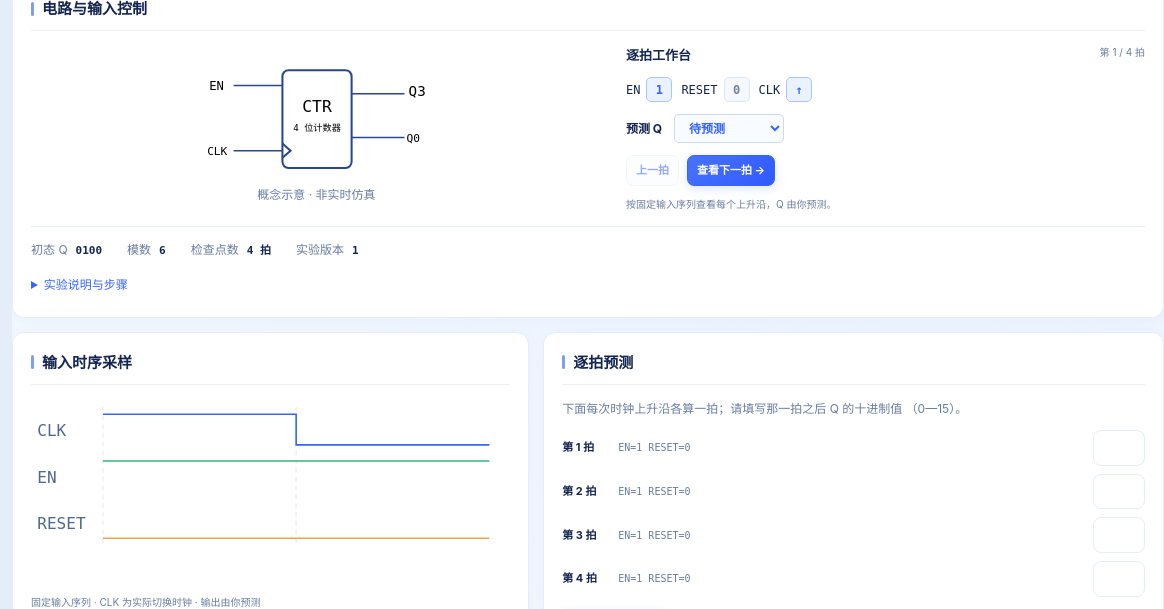
Test: 学生逐拍预测页 › 未填完时不提交并给出提示
Type "5" into the number field named "第 1 拍". click: (1119,448)
box: [1093,430,1145,466]
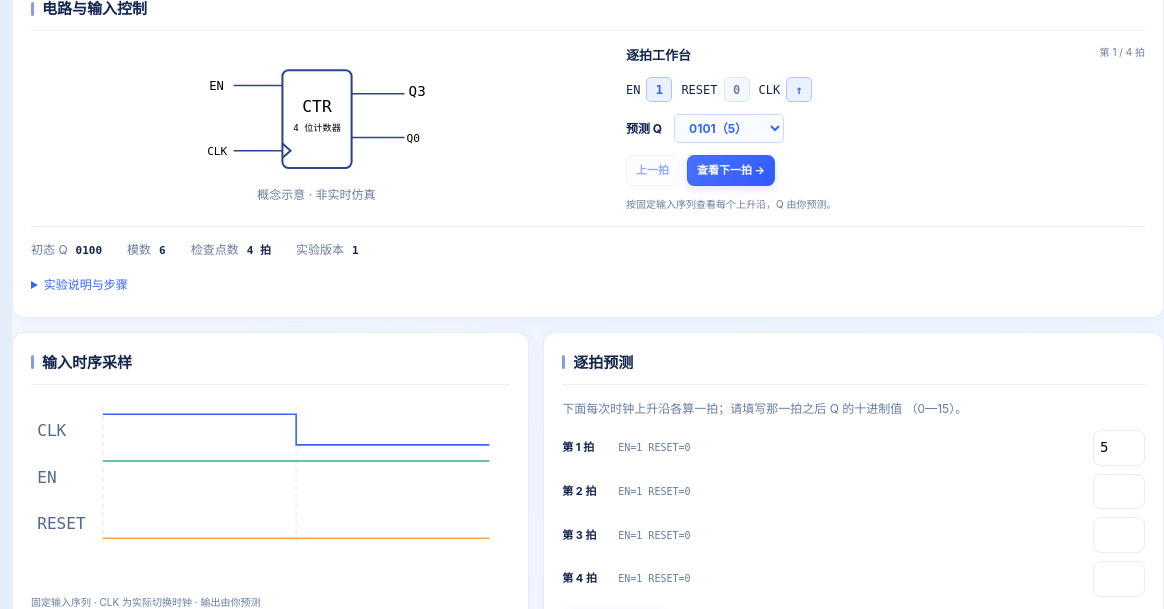
Type "0" into the number field named "第 2 拍". click: (1119,492)
box: [1093,474,1145,510]
(page scrolled)
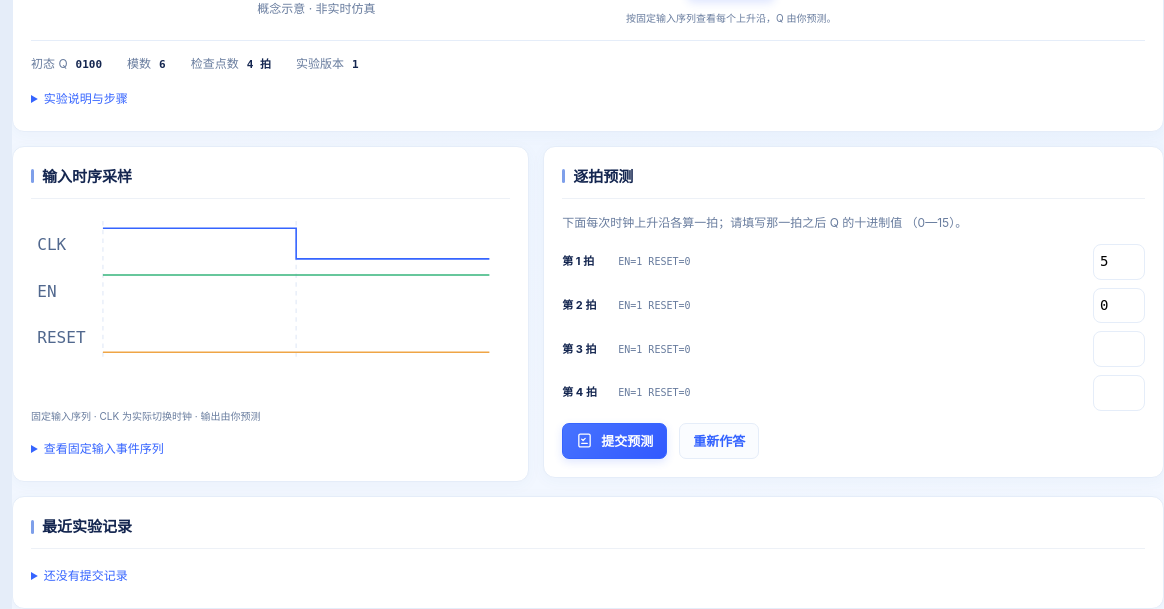
Click the button "提交预测". click: (615,441)
box: [562,423,667,459]
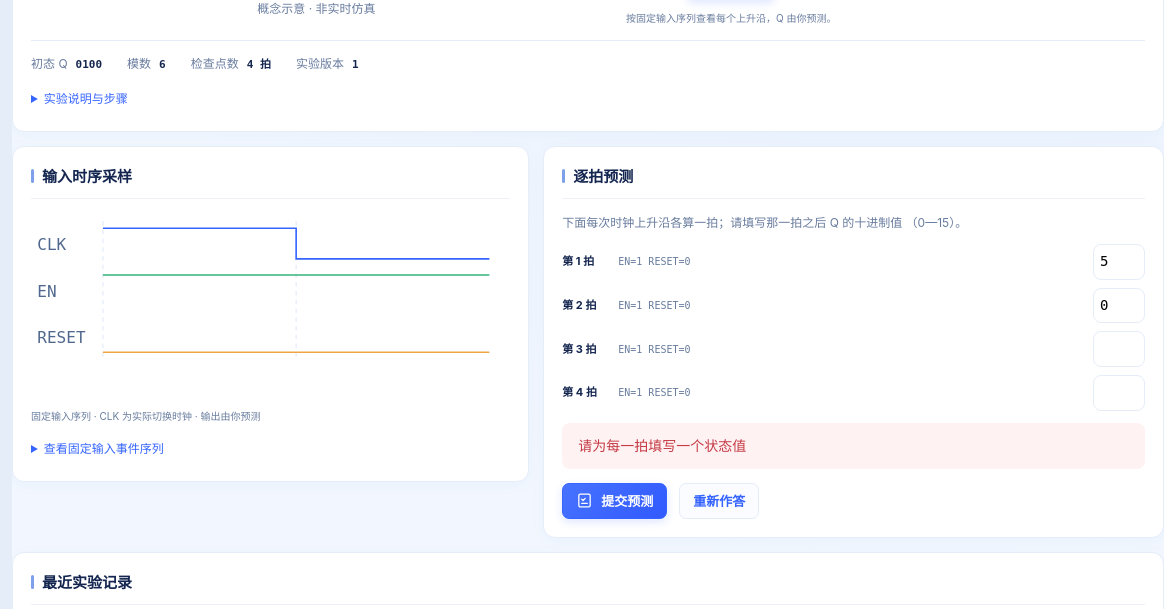
Now the text "请为每一拍填写一个状态值" is shown, box [562,423,1145,469]
